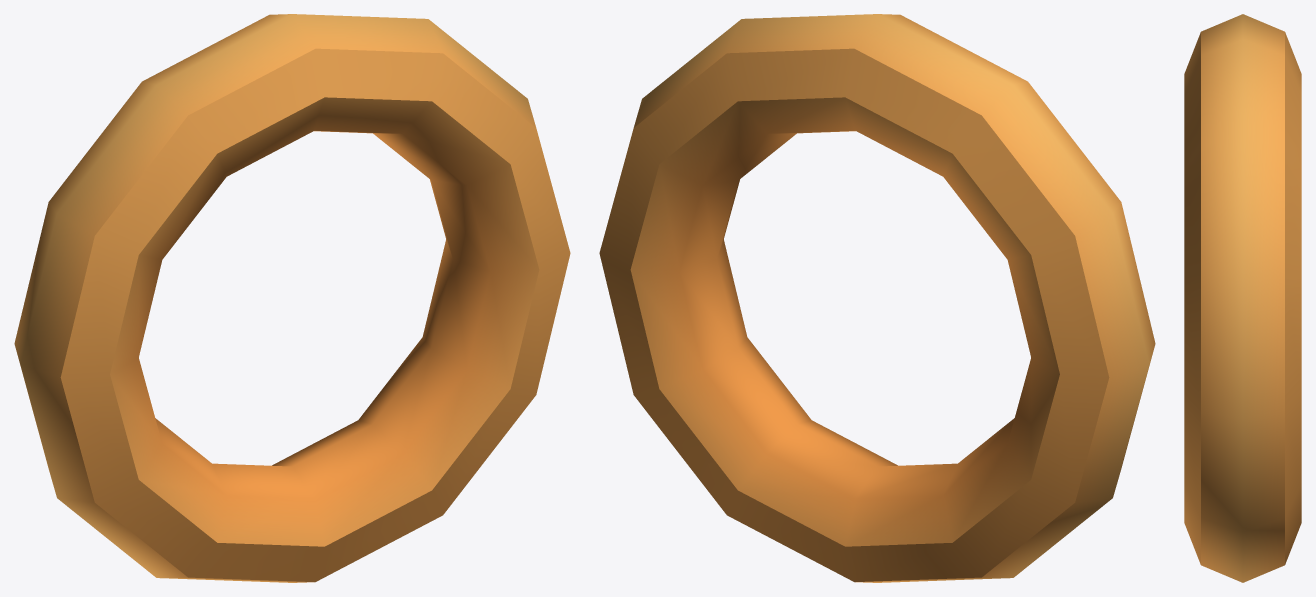
Rendered from bell_ring.obj.
The picture shows the model from 3 angles, left to right: view 1: azimuth 30°, elevation 25°; view 2: azimuth 150°, elevation 25°; view 3: azimuth 270°, elevation 25°; orthographic projection. The views are drawn at different scales.
Visible parts, largest first — view 1: bell_ring; view 2: bell_ring; view 3: bell_ring.
Boxes of the visible parts, x1,y1,x2,y2 form: bell_ring: (14, 14, 570, 582); bell_ring: (599, 14, 1155, 582); bell_ring: (1184, 14, 1301, 582).
Size of the model in its own units: 0.3275 by 0.3275 by 0.0672.
1 material, 1 textured.
